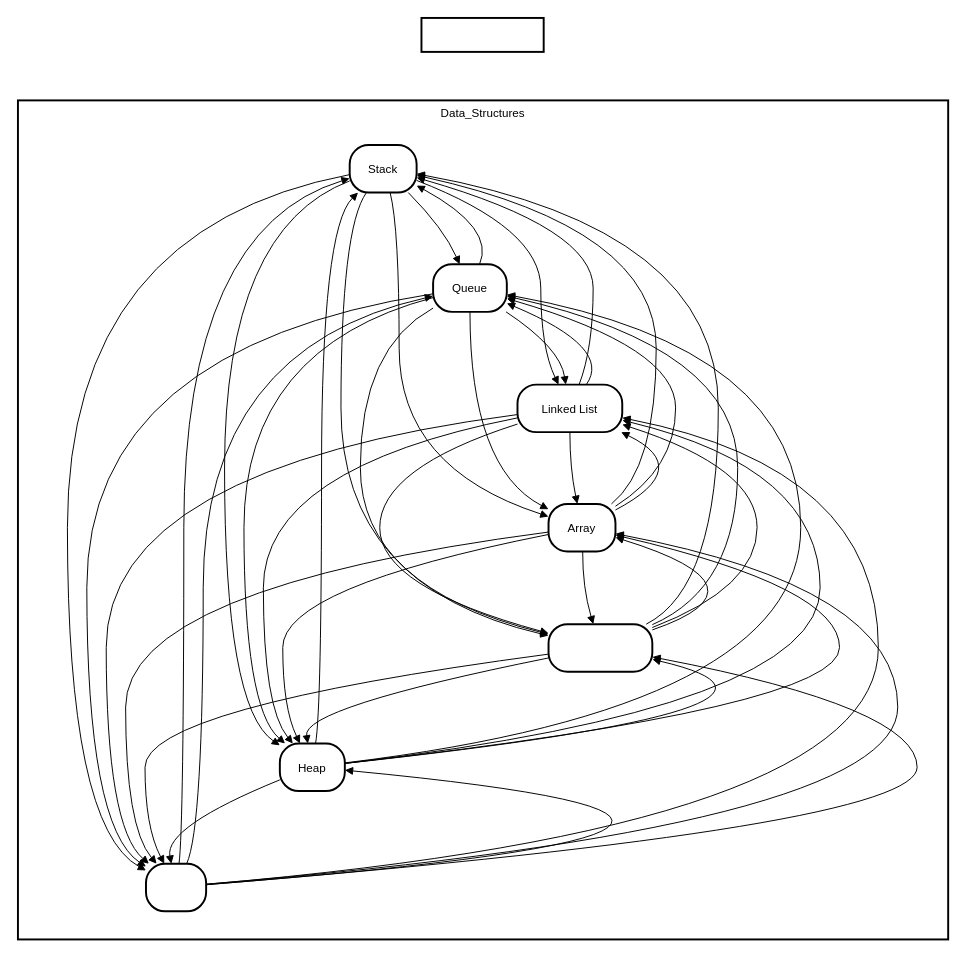
Some shapes in this 965 by 956 pixel diagram are drawn without their labels. The centre of each missing label's shape, as x and y in pixels:
Hash Table: the point at 600,647
Relationships: the point at 482,34
Tree: the point at 176,887
